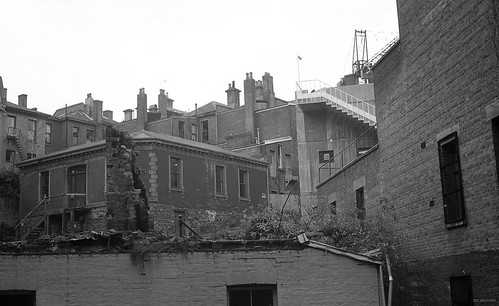building: (339, 1, 499, 293), (13, 136, 261, 246), (195, 77, 306, 160), (1, 83, 110, 166), (102, 121, 148, 229)
sky: (8, 1, 395, 101)
